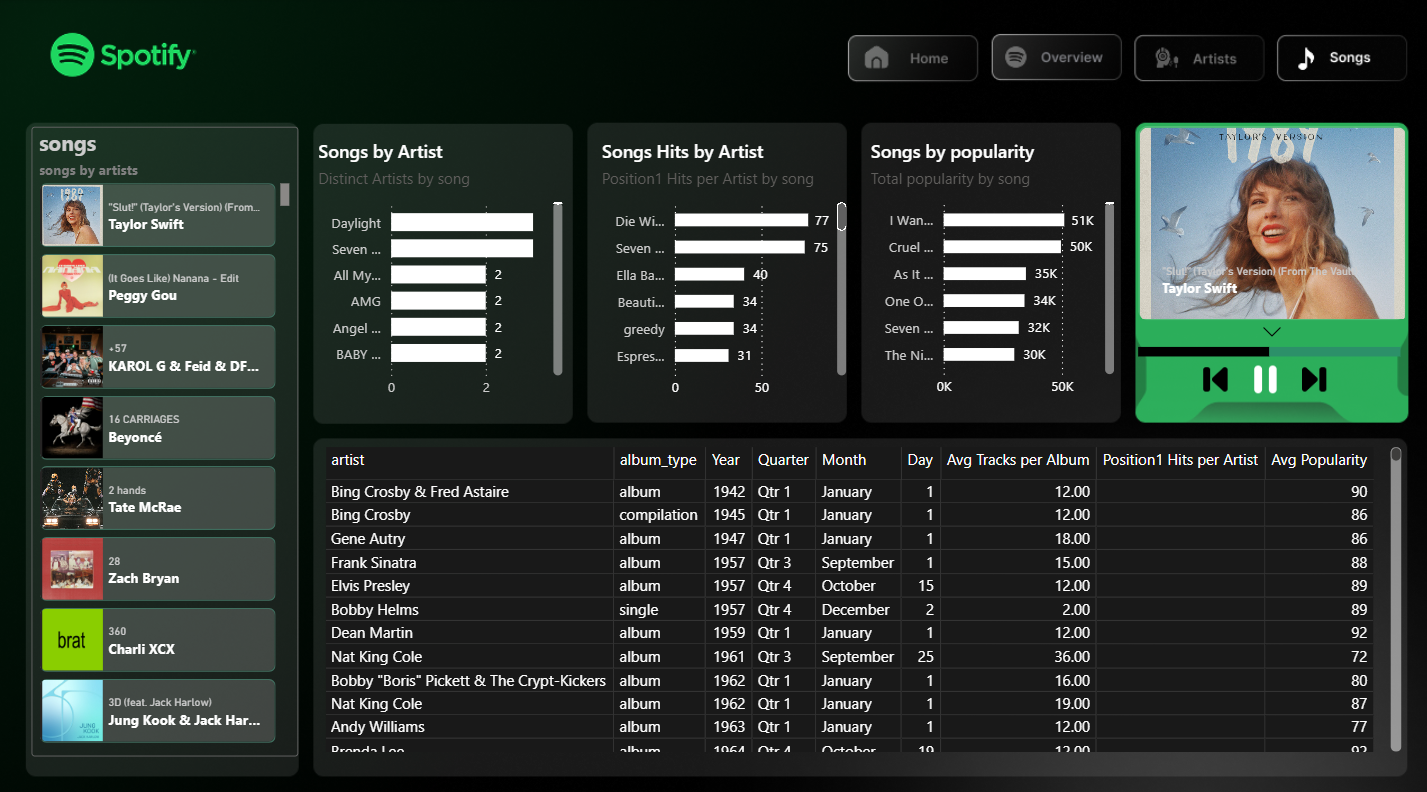

This screenshot's page, from the dashboard's own definition file:
{"tool":"powerbi","page":{"name":"songs","canvas":[1280,720],"ordinal":3},"visuals":[{"type":"actionButton","box":[762.6,33.4,103.8,39.8],"z":0},{"type":"actionButton","box":[886.8,33.4,112.2,39.8],"z":1000},{"type":"actionButton","box":[1020.8,33.4,100.1,39.8],"z":2000},{"type":"actionButton","box":[1146.2,33.4,100.1,39.8],"z":3000},{"type":"listSlicer","title":"songs","fields":{"Values":["Top-50-World.song"]},"box":[1009.8,89.3,248.5,223.2],"z":4000},{"type":"hundredPercentStackedBarChart","fields":{"Y":["_Measures.Avg Popularity","Avg(Top-50-World.popularity)"]},"box":[1009.3,280.6,243.7,62.7],"z":5000},{"type":"image","box":[1070.8,327.7,25,25],"z":6000},{"type":"image","box":[1158.9,327.7,25,25],"z":7000},{"type":"image","box":[1114.9,327.7,25,25],"z":8000},{"type":"shape","box":[1011,102.5,247.3,293.2],"z":9000},{"type":"actionButton","box":[357.3,390.2,100.1,39.8],"z":12000},{"type":"actionButton","box":[482.8,390.2,100.1,39.8],"z":13000},{"type":"listSlicer","title":"songs","fields":{"Values":["Top-50-World.song"]},"box":[29,114.6,237.7,561],"z":15000},{"type":"actionButton","box":[105,425.9,103.8,39.8],"z":16000},{"type":"tableEx","fields":{"Values":["Top-50-World.artist","Top-50-World.album_type","Top-50-World.release_date.Variation.Date Hierarchy.Year","Top-50-World.release_date.Variation.Date Hierarchy.Quarter","Top-50-World.release_date.Variation.Date Hierarchy.Month","Top-50-World.release_date.Variation.Date Hierarchy.Day","_Measures.Avg Tracks per Album","_Measures.Position1 Hits per Artist","_Measures.Avg Popularity"]},"box":[284.7,395.7,968.8,281.1],"z":17000},{"type":"clusteredBarChart","title":"Songs by Artist","fields":{"Y":["_Measures.Distinct Artists"],"Category":["Top-50-World.song"]},"box":[279.1,124.6,227.5,240],"z":18000},{"type":"clusteredBarChart","title":"Songs Hits by Artist","fields":{"Category":["Top-50-World.song"],"Y":["_Measures.Position1 Hits per Artist"]},"box":[531.6,124.6,227.5,240],"z":19000},{"type":"actionButton","box":[340.9,126.7,100.1,39.8],"z":20000},{"type":"clusteredBarChart","title":"Songs by popularity","fields":{"Category":["Top-50-World.song"],"Y":["Sum(Top-50-World.popularity)"]},"box":[770.9,124.3,226.8,238.9],"z":21000}]}

Visuals, with their boxes in screenshot pixels (x1, y1, x2, y2), scaled from the page's 1280x720 canvas onto the 1427x792 screenshot:
actionButton: 850, 37, 966, 81
actionButton: 989, 37, 1114, 81
actionButton: 1138, 37, 1250, 81
actionButton: 1278, 37, 1389, 81
"songs" listSlicer: 1126, 98, 1403, 344
hundredPercentStackedBarChart - _Measures.Avg Popularity x Avg(Top-50-World.popularity): 1125, 309, 1397, 378
image: 1194, 360, 1222, 388
image: 1292, 360, 1320, 388
image: 1243, 360, 1271, 388
shape: 1127, 113, 1403, 435
actionButton: 398, 429, 510, 473
actionButton: 538, 429, 650, 473
"songs" listSlicer: 32, 126, 297, 743
actionButton: 117, 468, 233, 512
tableEx - Top-50-World.artist x Top-50-World.album_type: 317, 435, 1397, 744
"Songs by Artist" clusteredBarChart: 311, 137, 565, 401
"Songs Hits by Artist" clusteredBarChart: 593, 137, 846, 401
actionButton: 380, 139, 492, 183
"Songs by popularity" clusteredBarChart: 859, 137, 1112, 400
